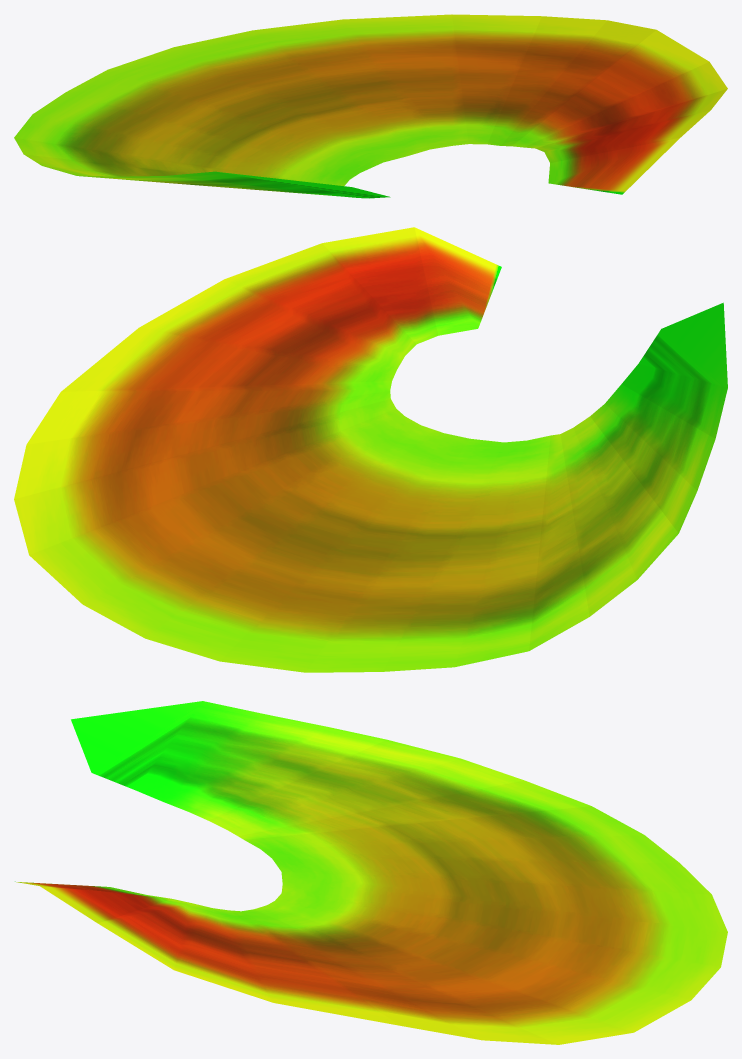
The model's file is SLASH_HEAVY_R.fbx.
3 views of the same model, one above another, from view 1: azimuth 30°, elevation 25°; view 2: azimuth 150°, elevation 25°; view 3: azimuth 270°, elevation 25° (orthographic). The views are drawn at different scales.
Visible parts, largest first — view 1: MeshBaker_mesh_mesh; view 2: MeshBaker_mesh_mesh; view 3: MeshBaker_mesh_mesh.
Part boxes in pixels (x1=…): MeshBaker_mesh_mesh: x1=14, y1=14, x2=727, y2=198; MeshBaker_mesh_mesh: x1=14, y1=227, x2=727, y2=672; MeshBaker_mesh_mesh: x1=15, y1=701, x2=727, y2=1044.
Size of the model in its own units: 838 by 191 by 890.
1 material, 1 textured.
